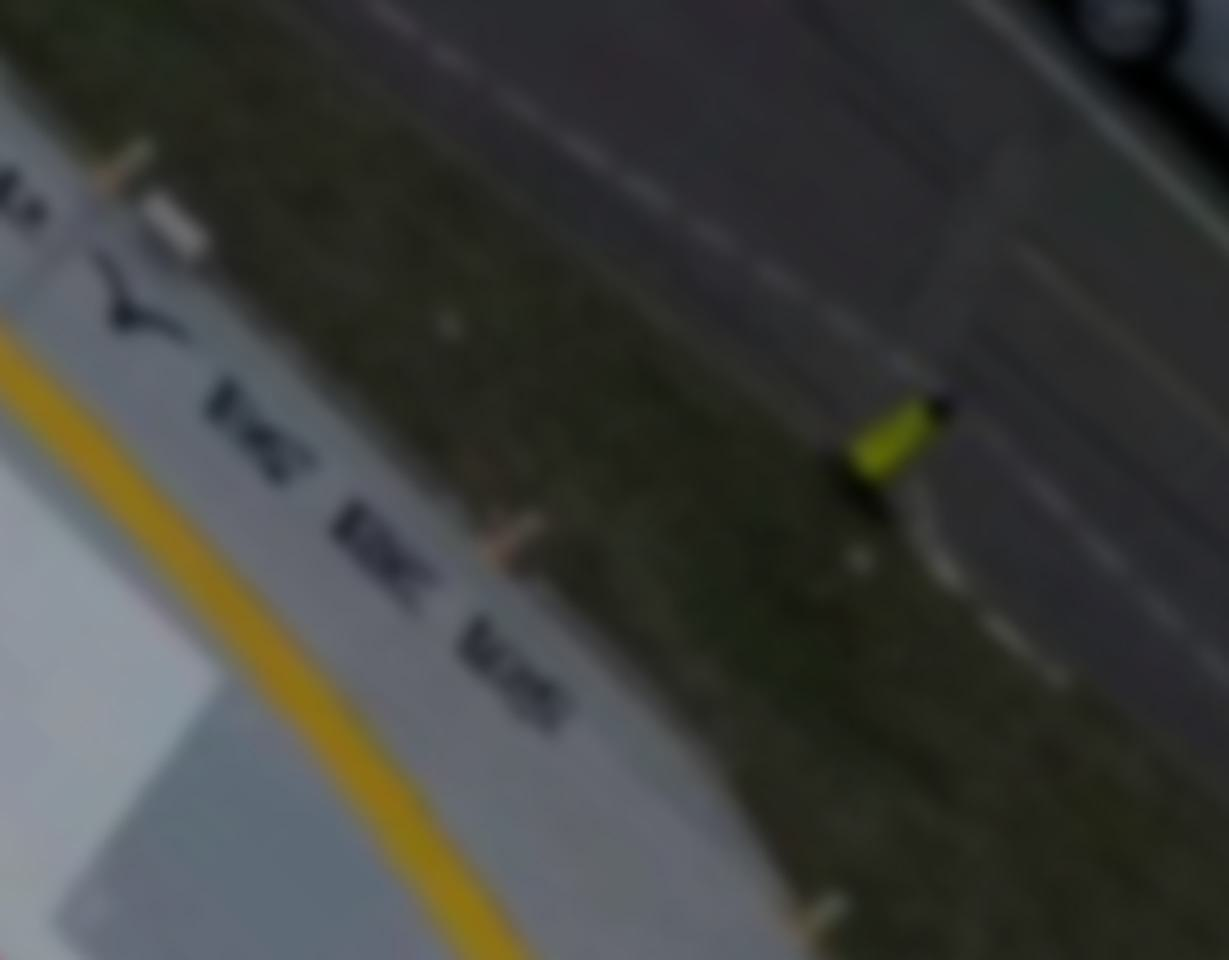Apron: (1, 238, 553, 955)
